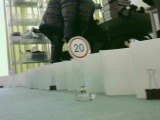speed_20: (67, 35, 91, 60)
